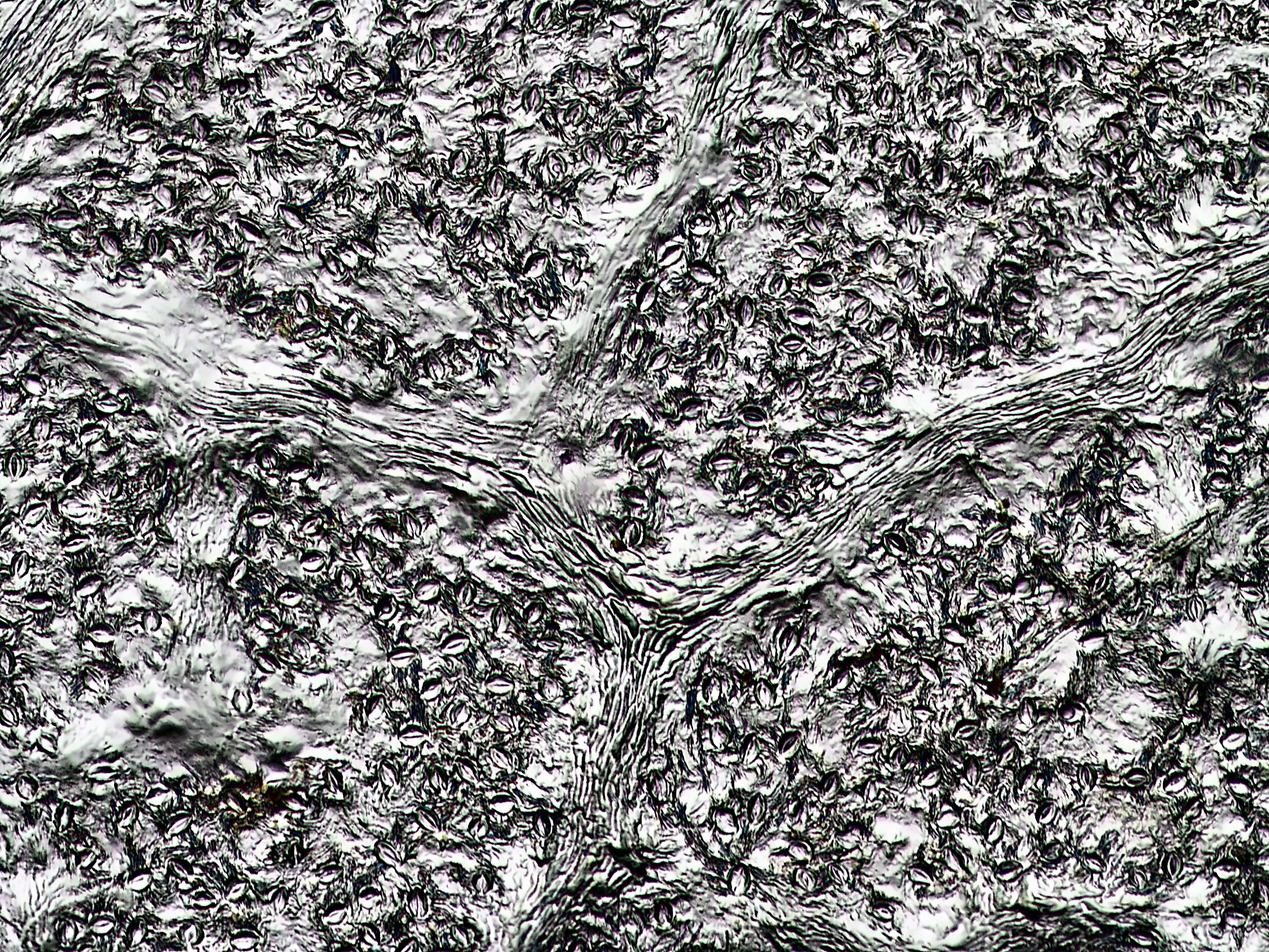stomata: (46, 209, 87, 232), (54, 917, 78, 952), (219, 76, 253, 100), (727, 863, 751, 897), (388, 127, 417, 155), (233, 216, 263, 243), (376, 9, 406, 36), (777, 731, 804, 761), (753, 677, 776, 712), (655, 240, 683, 268), (214, 254, 245, 279), (276, 204, 307, 229), (525, 288, 550, 319), (3, 449, 27, 481), (896, 263, 919, 296), (460, 260, 487, 288), (374, 839, 401, 867), (542, 190, 568, 219), (618, 46, 648, 71), (455, 756, 479, 787), (619, 517, 642, 549), (288, 633, 311, 665), (735, 406, 770, 427), (914, 657, 941, 684), (96, 230, 124, 256), (155, 143, 188, 165), (480, 221, 505, 250), (82, 666, 107, 695), (489, 745, 514, 774), (175, 920, 204, 945), (18, 372, 48, 396), (440, 632, 470, 656), (58, 494, 89, 517), (646, 768, 669, 799), (235, 294, 267, 316), (781, 373, 807, 400), (416, 807, 443, 833), (1221, 727, 1248, 753), (151, 181, 176, 209), (1011, 326, 1036, 354), (86, 622, 115, 646), (398, 724, 427, 748), (423, 350, 445, 381), (53, 801, 75, 832), (126, 917, 148, 948), (229, 929, 260, 951), (1017, 697, 1039, 728), (571, 61, 591, 95), (773, 117, 793, 151), (86, 763, 120, 783), (522, 253, 548, 279), (713, 807, 739, 833), (797, 3, 822, 30), (686, 210, 714, 234), (386, 647, 418, 668), (484, 675, 516, 696), (1237, 581, 1265, 605), (869, 131, 892, 160), (825, 21, 848, 50), (776, 332, 805, 355), (74, 574, 103, 597), (454, 580, 477, 609), (399, 509, 422, 538), (1212, 859, 1241, 882), (90, 169, 120, 191), (485, 167, 507, 197), (832, 80, 854, 110), (686, 260, 716, 282), (245, 506, 275, 528), (486, 792, 516, 814), (963, 753, 983, 786), (1161, 850, 1183, 880), (1186, 594, 1208, 624), (801, 173, 832, 194), (407, 887, 428, 918), (709, 720, 730, 751), (474, 328, 501, 352), (849, 298, 873, 325), (413, 578, 440, 602), (1054, 53, 1077, 81), (254, 611, 282, 634), (375, 594, 398, 622), (87, 914, 115, 937), (244, 132, 276, 152), (905, 204, 925, 236), (491, 602, 511, 634), (747, 791, 767, 823), (341, 308, 363, 337), (308, 1, 337, 23), (634, 443, 663, 465), (994, 860, 1023, 882), (1224, 776, 1253, 798), (125, 123, 155, 144), (638, 282, 659, 312), (868, 238, 889, 268), (1057, 702, 1087, 723), (1076, 761, 1097, 791), (1161, 773, 1191, 794), (996, 743, 1021, 768), (1183, 134, 1208, 159), (1088, 155, 1113, 180), (522, 600, 546, 626), (126, 868, 152, 892), (289, 290, 312, 317), (728, 191, 751, 218), (770, 493, 797, 516), (78, 423, 105, 446), (166, 812, 193, 835), (93, 394, 124, 414), (740, 733, 760, 764), (1223, 153, 1243, 184), (464, 73, 492, 95), (940, 622, 968, 644), (523, 86, 544, 115), (183, 63, 204, 92), (986, 87, 1007, 116), (813, 404, 842, 425), (450, 699, 471, 728), (779, 625, 800, 654), (819, 770, 840, 799), (1185, 681, 1206, 710), (977, 158, 996, 190), (416, 38, 436, 68), (562, 255, 582, 285), (786, 43, 810, 68), (454, 339, 479, 363), (707, 340, 727, 370), (845, 54, 875, 74), (1103, 119, 1128, 143), (1159, 57, 1189, 77), (924, 335, 944, 365), (23, 502, 48, 526), (118, 799, 138, 829), (315, 864, 345, 884), (533, 808, 553, 838), (793, 867, 818, 891), (882, 532, 907, 556), (1095, 449, 1119, 474), (15, 775, 38, 801), (886, 624, 912, 647), (188, 113, 210, 140), (374, 89, 407, 107), (738, 295, 756, 328), (471, 868, 493, 895), (933, 554, 960, 576), (1078, 630, 1105, 652), (943, 845, 965, 872), (208, 167, 239, 186), (901, 148, 920, 179), (985, 816, 1004, 847), (1202, 89, 1221, 120), (140, 84, 168, 105), (275, 585, 303, 606), (323, 766, 344, 794), (428, 765, 449, 793), (1017, 617, 1038, 645), (1218, 434, 1246, 455), (710, 453, 739, 473), (9, 550, 29, 579), (702, 674, 722, 703), (79, 83, 113, 100), (256, 447, 279, 472), (357, 887, 382, 910), (468, 815, 491, 840), (918, 764, 943, 787), (62, 463, 88, 485), (254, 652, 280, 674), (167, 858, 193, 880), (225, 878, 251, 900), (985, 524, 1011, 546), (1081, 851, 1107, 873), (1207, 471, 1233, 493), (447, 29, 466, 59), (608, 130, 627, 160), (547, 150, 568, 177), (737, 474, 764, 495), (300, 551, 327, 572), (37, 731, 58, 758), (378, 761, 399, 788), (582, 138, 602, 166), (287, 461, 315, 481), (134, 508, 154, 536), (228, 557, 248, 585), (335, 564, 355, 592), (890, 742, 910, 770), (1139, 86, 1170, 104), (804, 213, 828, 236), (893, 32, 917, 55), (420, 677, 443, 701), (617, 87, 646, 106), (649, 346, 674, 368), (739, 162, 764, 184), (29, 415, 51, 440), (788, 840, 813, 862), (1060, 490, 1085, 512), (379, 333, 400, 359), (807, 272, 833, 293), (489, 712, 515, 733), (538, 675, 559, 701), (858, 685, 879, 711), (1089, 569, 1110, 595), (994, 262, 1026, 279), (366, 694, 386, 721), (144, 229, 163, 257), (336, 183, 355, 211), (479, 113, 507, 132), (1042, 239, 1070, 258), (564, 101, 587, 124), (1031, 99, 1054, 122), (358, 923, 381, 946), (813, 135, 835, 159), (878, 78, 895, 109), (426, 211, 444, 240), (614, 424, 632, 453), (24, 592, 53, 610), (1100, 54, 1126, 74), (1087, 4, 1113, 24), (1123, 768, 1149, 788), (620, 487, 647, 506), (146, 463, 165, 490), (934, 809, 961, 828), (448, 149, 470, 172), (141, 608, 163, 631), (323, 903, 346, 925), (827, 863, 850, 885), (1014, 577, 1037, 599), (771, 273, 792, 297), (771, 447, 799, 465), (449, 923, 470, 947), (1040, 840, 1064, 861), (1127, 867, 1148, 891), (1216, 399, 1240, 420), (943, 119, 963, 144), (858, 374, 883, 394), (232, 689, 252, 714), (653, 899, 673, 924), (833, 666, 853, 691), (627, 330, 646, 356), (625, 161, 644, 187), (62, 534, 88, 553), (954, 719, 980, 738), (908, 866, 934, 885), (1096, 498, 1113, 527), (381, 180, 399, 207), (1022, 179, 1049, 197), (1035, 802, 1057, 824), (779, 190, 800, 213), (1158, 21, 1181, 42), (352, 238, 376, 258), (696, 309, 716, 333), (1224, 907, 1248, 927), (962, 307, 990, 324), (787, 308, 812, 327), (940, 18, 965, 37), (1124, 149, 1143, 174), (570, 0, 595, 19), (1010, 3, 1036, 21), (1158, 652, 1184, 670), (1008, 220, 1034, 238), (962, 196, 991, 212), (272, 886, 288, 915), (297, 118, 319, 139), (680, 398, 701, 420), (103, 475, 123, 498), (871, 902, 894, 922), (963, 80, 980, 107), (854, 176, 878, 195), (1001, 51, 1020, 75), (299, 516, 323, 535), (144, 787, 168, 806), (336, 128, 360, 146), (934, 161, 952, 185), (929, 71, 949, 92), (880, 319, 899, 341), (978, 580, 1000, 599), (858, 738, 881, 756), (910, 705, 934, 722), (931, 286, 949, 308), (344, 70, 369, 85), (538, 637, 563, 652), (1121, 189, 1138, 211), (865, 776, 879, 801), (1010, 288, 1033, 303)
